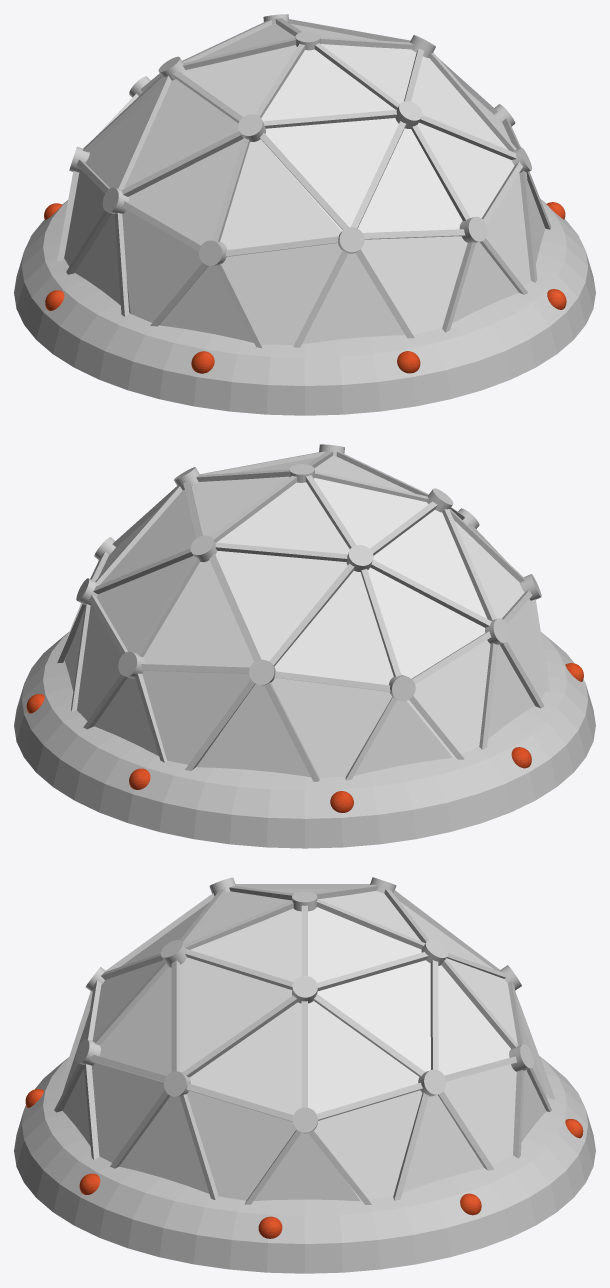
File: DomeBroken.fbx
3 views of the same model, one above another, from view 1: azimuth 30°, elevation 25°; view 2: azimuth 150°, elevation 25°; view 3: azimuth 270°, elevation 25° (orthographic).
Visible parts, largest first — view 1: Dome, Base, Cube.045, Cube.001, Cube.046, Cube.018, Cube.016, Cube.007, Cube.017, Cube.008, Cube.014, Cube.003 (+26 smaller); view 2: Dome, Base, Cube.046, Cube.009, Cube.045, Cube.044, Cube.013, Cube.043, Cube.015, Cube.021, Cube.006, Cube.040 (+24 smaller); view 3: Dome, Base, Cube.018, Cube.019, Cube.011, Cube.017, Cube.012, Cube.006, Cube.021, Cube.005, Cube.037, Cube.013 (+21 smaller).
Boxes of the visible parts, box(x1,y1,x2,y2) form: Dome: box(64, 23, 545, 345); Base: box(14, 199, 595, 415); Cube.045: box(121, 131, 243, 196); Cube.001: box(263, 109, 397, 128); Cube.046: box(115, 76, 171, 189); Cube.018: box(429, 52, 516, 151); Cube.016: box(260, 132, 348, 230); Cube.007: box(183, 37, 295, 69); Cube.017: box(419, 115, 516, 159); Cube.008: box(411, 125, 470, 220); Cube.014: box(351, 121, 405, 228); Cube.003: box(212, 138, 249, 241); Dome: box(64, 456, 545, 777); Base: box(14, 632, 595, 848); Cube.046: box(370, 559, 491, 627); Cube.009: box(215, 542, 347, 561); Cube.045: box(442, 509, 496, 620); Cube.044: box(269, 563, 354, 666); Cube.013: box(136, 556, 200, 656); Cube.043: box(209, 554, 261, 661); Cube.015: box(360, 569, 401, 676); Cube.021: box(93, 548, 193, 594); Cube.006: box(211, 475, 297, 542); Cube.040: box(479, 643, 497, 749); Dome: box(62, 889, 547, 1201); Base: box(14, 1056, 595, 1273); Cube.018: box(182, 995, 298, 1077); Cube.019: box(313, 994, 425, 1076); Cube.011: box(317, 952, 428, 991); Cube.017: box(171, 960, 179, 1071); Cube.012: box(185, 949, 293, 989); Cube.006: box(316, 899, 425, 949); Cube.021: box(430, 960, 438, 1070); Cube.005: box(184, 901, 293, 949); Cube.037: box(180, 1094, 218, 1199); Cube.013: box(441, 959, 518, 1048).
Bounding box in the file's own units: 4578 × 2216 × 4578.
